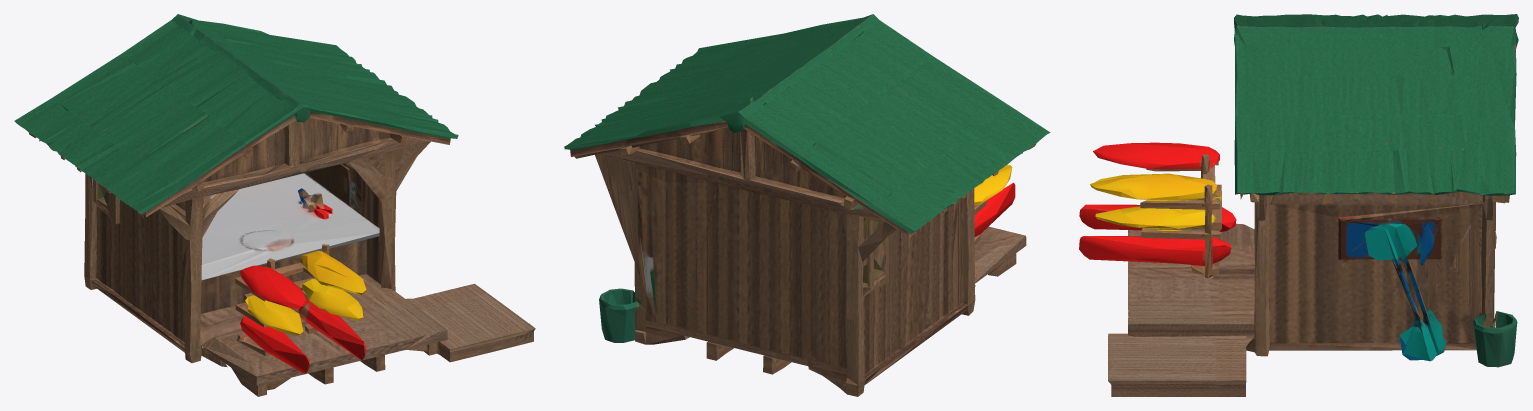
File: kayak.glb
3 views of the same model, side by side, from view 1: azimuth 30°, elevation 25°; view 2: azimuth 150°, elevation 25°; view 3: azimuth 270°, elevation 25° (orthographic). The views are drawn at different scales.
Visible parts, largest first — view 1: output_unwrapped; view 2: output_unwrapped; view 3: output_unwrapped.
Boxes of the visible parts, x1,y1,x2,y2 form: output_unwrapped: (14, 14, 535, 396); output_unwrapped: (564, 14, 1050, 396); output_unwrapped: (1079, 14, 1518, 396).
Bounding box in the file's own units: 1.89 × 1.3 × 1.87.
Materials: 1 (1 with a texture image).
